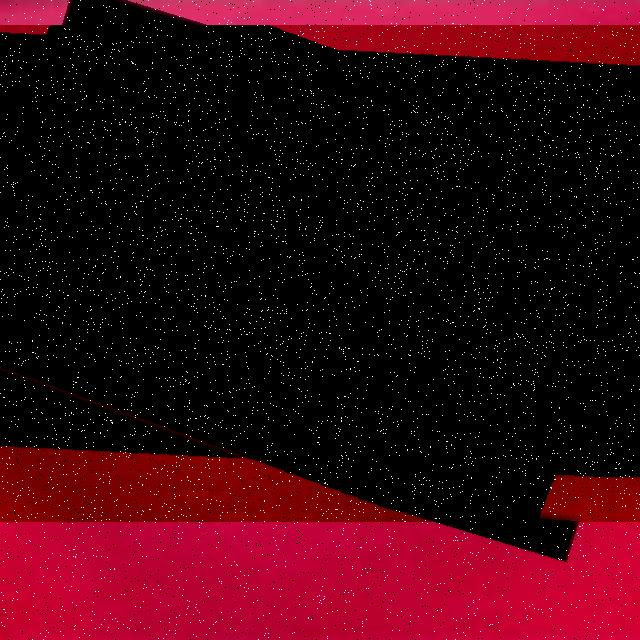dua ribu rupiah: (0, 25, 640, 522)
